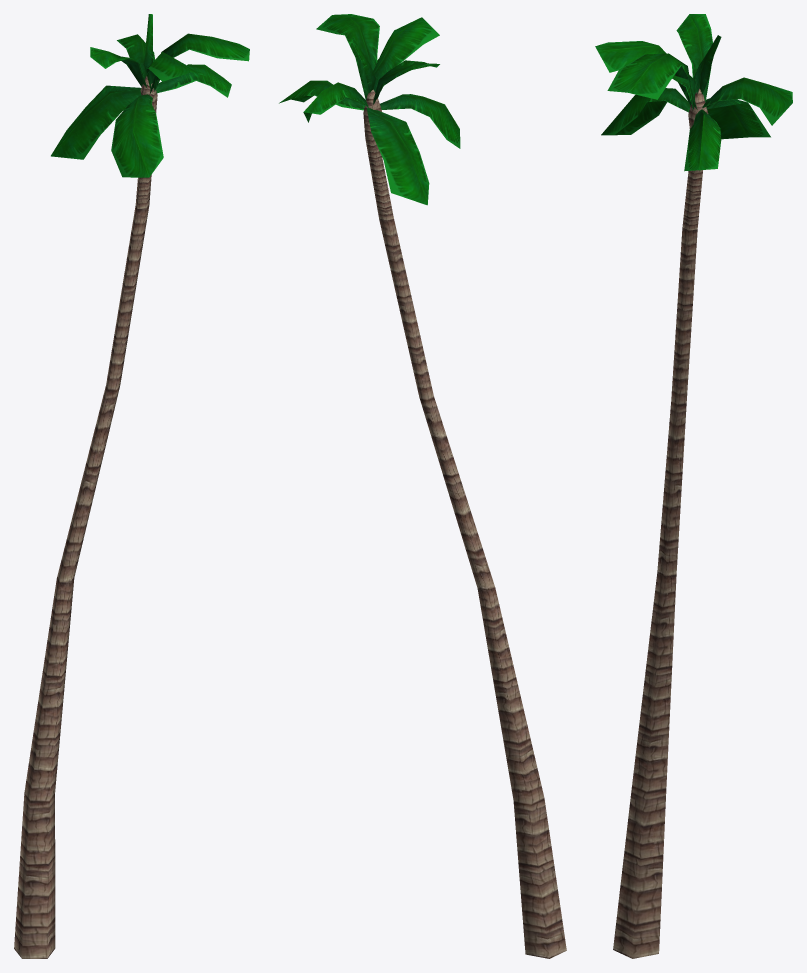
File: palm_tree_a.fbx
3 views of the same model, side by side, from view 1: azimuth 30°, elevation 25°; view 2: azimuth 150°, elevation 25°; view 3: azimuth 270°, elevation 25° (orthographic). The views are drawn at different scales.
Visible parts, largest first — view 1: hi_trunk_a, hi_leaf_a; view 2: hi_trunk_a, hi_leaf_a; view 3: hi_trunk_a, hi_leaf_a.
Boxes of the visible parts, left/top/right/bottom form: hi_trunk_a: left=14, top=76, right=157, bottom=958; hi_leaf_a: left=51, top=14, right=249, bottom=177; hi_trunk_a: left=363, top=89, right=566, bottom=958; hi_leaf_a: left=279, top=14, right=460, bottom=205; hi_trunk_a: left=613, top=88, right=708, bottom=958; hi_leaf_a: left=595, top=14, right=792, bottom=171.
Bounding box in the file's own units: 2344 × 8123 × 1461.
Materials: 2 (2 with a texture image).
